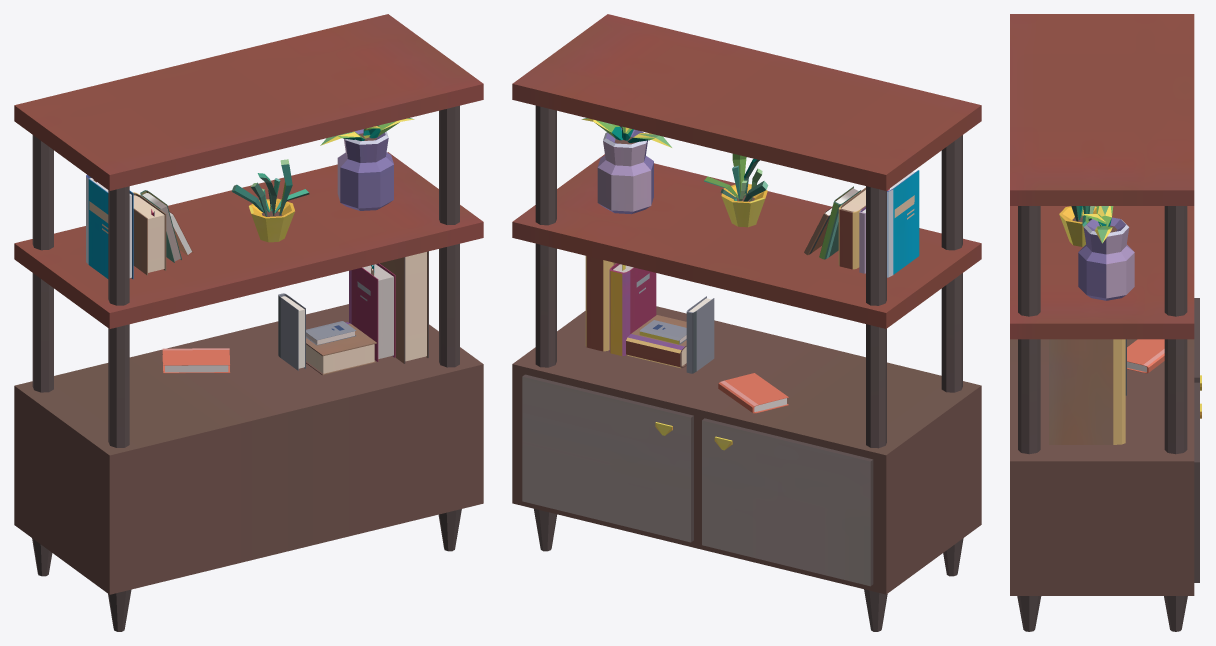
File: low_poly_wardrode_with_books_and_plants.glb
3 renders of one model, left to right at view 1: azimuth 30°, elevation 25°; view 2: azimuth 150°, elevation 25°; view 3: azimuth 270°, elevation 25°, orthographic. The views are drawn at different scales.
Parts seen in each view (by area): view 1: Cylinder.002; view 2: Cylinder.002; view 3: Cylinder.002.
Part boxes in pixels (x1,y1,x2,y2): Cylinder.002: [14, 14, 483, 631]; Cylinder.002: [512, 14, 981, 631]; Cylinder.002: [1010, 14, 1201, 631].
Bounding box in the file's own units: 5.62 × 6.7 × 2.58.
1 material, 1 textured.
